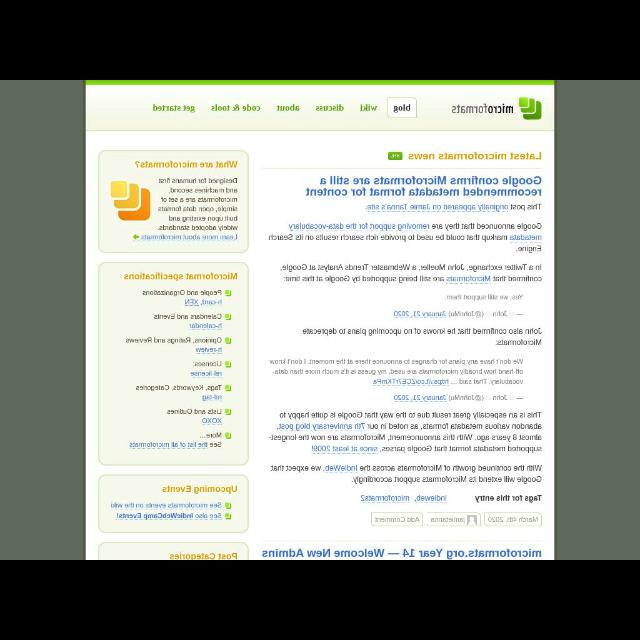image: (448, 99, 548, 123)
link: (286, 222, 430, 234), (364, 203, 510, 213), (109, 500, 221, 510), (390, 304, 448, 320), (277, 422, 365, 432), (114, 512, 223, 520), (126, 441, 206, 451), (140, 234, 238, 242), (444, 272, 492, 286), (368, 379, 450, 387), (141, 290, 221, 298), (360, 492, 410, 504), (310, 446, 378, 454), (324, 462, 358, 478), (393, 393, 447, 402), (508, 233, 544, 243), (414, 494, 448, 504), (183, 298, 223, 306), (189, 322, 225, 330), (190, 370, 222, 378), (192, 346, 222, 354), (200, 394, 222, 404), (200, 418, 222, 427)
text: (262, 411, 544, 457), (266, 356, 526, 404), (266, 218, 542, 256), (265, 462, 545, 486), (306, 171, 544, 197), (276, 264, 544, 286), (299, 327, 545, 348), (378, 290, 524, 324), (158, 176, 238, 232), (407, 150, 548, 167), (262, 549, 544, 557), (107, 180, 155, 227), (158, 481, 240, 497), (132, 159, 238, 171), (470, 492, 540, 504), (134, 385, 218, 393), (160, 406, 224, 416), (120, 338, 224, 344), (368, 515, 419, 525), (157, 101, 193, 115), (164, 552, 242, 558), (488, 514, 540, 522), (212, 105, 260, 113), (148, 314, 225, 318), (192, 360, 224, 368), (432, 516, 464, 524), (277, 101, 299, 112), (318, 105, 344, 114), (360, 101, 378, 112), (208, 441, 224, 449), (203, 434, 221, 438)
textbutton: (387, 96, 419, 122)
toolbar: (82, 84, 554, 134)
